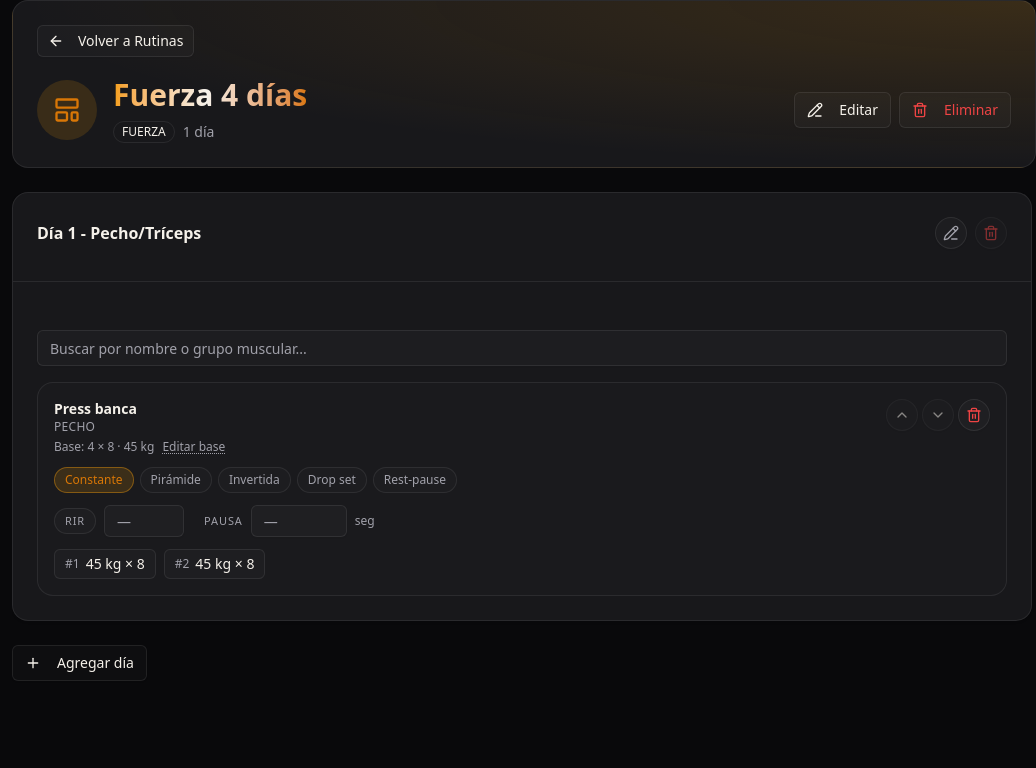
detalle de plantilla de rutina — borrador y guardado › quita un ejercicio del día con el botón de papelera
Expected: the text "Press banca" is shown, [54, 399, 137, 418]
Click the button named "Quitar ejercicio": (974, 415) [958, 399, 990, 431]
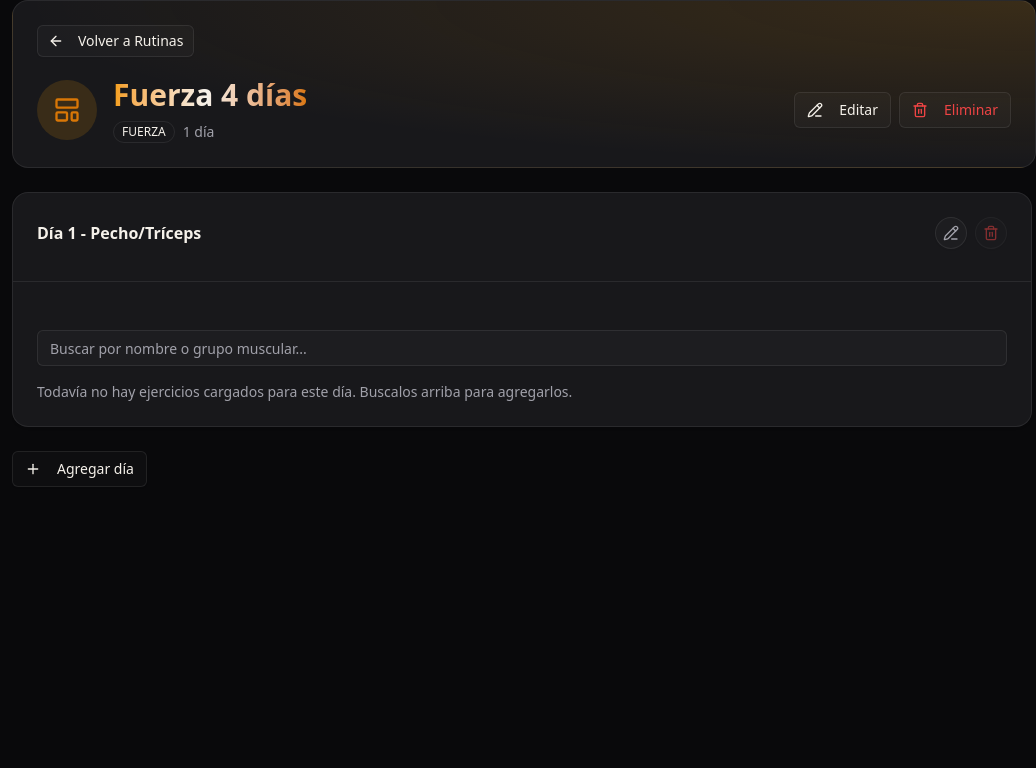
Now the text "Press banca" is gone
Now the text "Todavía no hay ejercicios cargados para este día. Buscalos arriba para agregarlos." is shown, box [37, 382, 572, 401]
